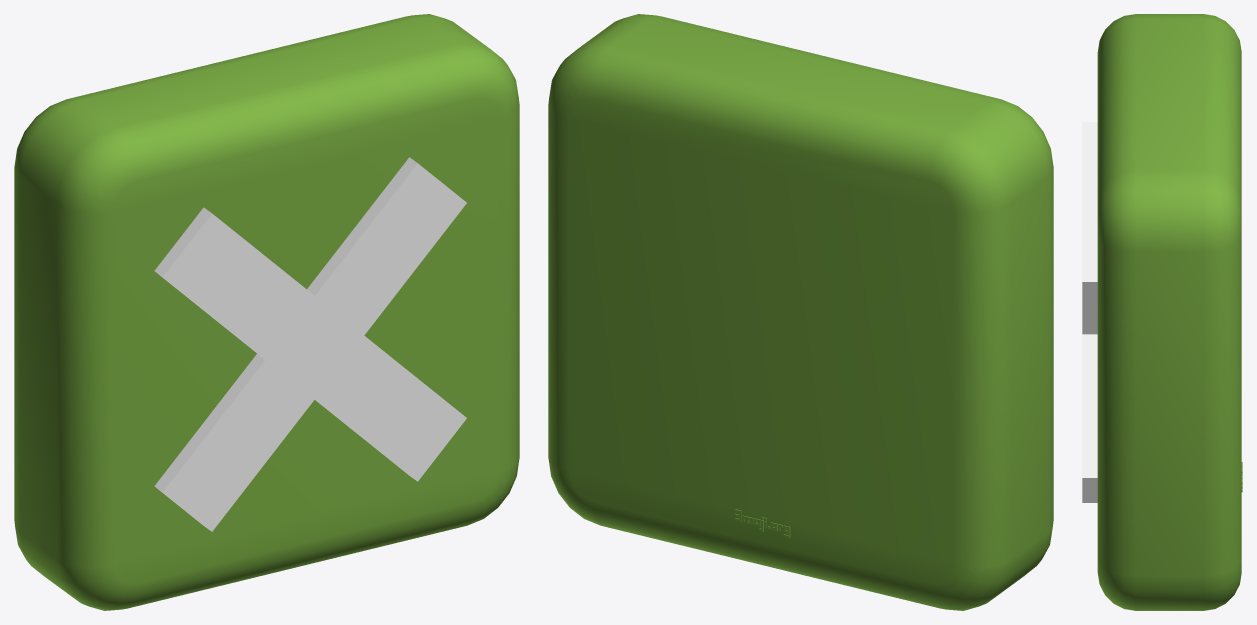
Rendered from cross_mark_button.fbx.
The picture shows the model from 3 angles, left to right: view 1: azimuth 30°, elevation 25°; view 2: azimuth 150°, elevation 25°; view 3: azimuth 270°, elevation 25°; orthographic projection. The views are drawn at different scales.
Visible parts, largest first — view 1: Cube.6463; view 2: Cube.6463; view 3: Cube.6463.
Boxes of the visible parts, x1,y1,x2,y2 form: Cube.6463: [14, 14, 519, 610]; Cube.6463: [548, 14, 1053, 610]; Cube.6463: [1082, 14, 1242, 610].
Bounding box in the file's own units: 220 × 220 × 73.37.
1 material, 1 textured.
